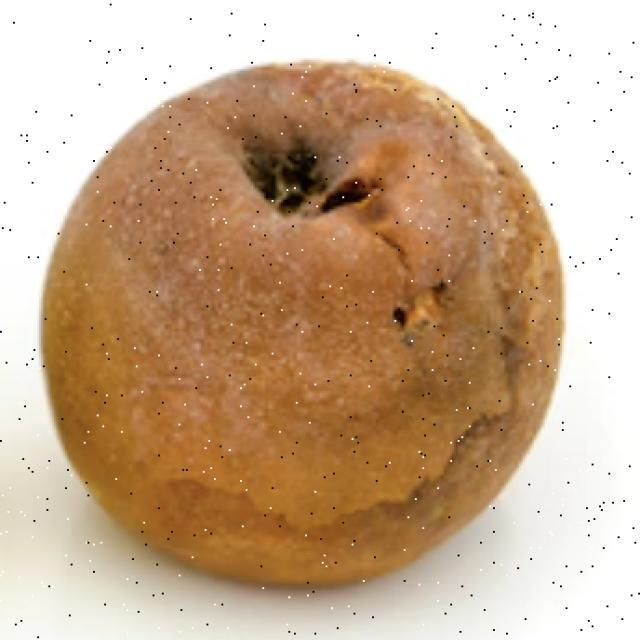Rotten: (42, 55, 568, 595)
